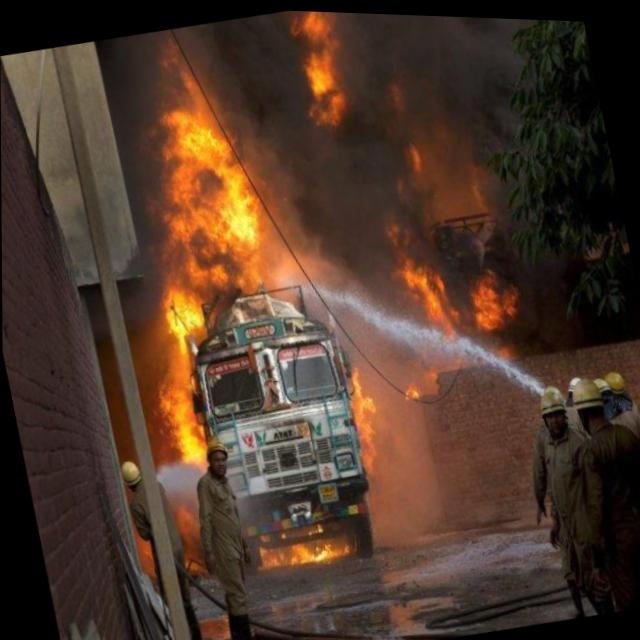fire: (81, 21, 318, 480), (379, 194, 535, 381), (277, 8, 367, 135), (252, 520, 359, 583), (337, 352, 391, 476), (168, 496, 208, 577), (400, 133, 433, 185), (395, 376, 424, 404)
